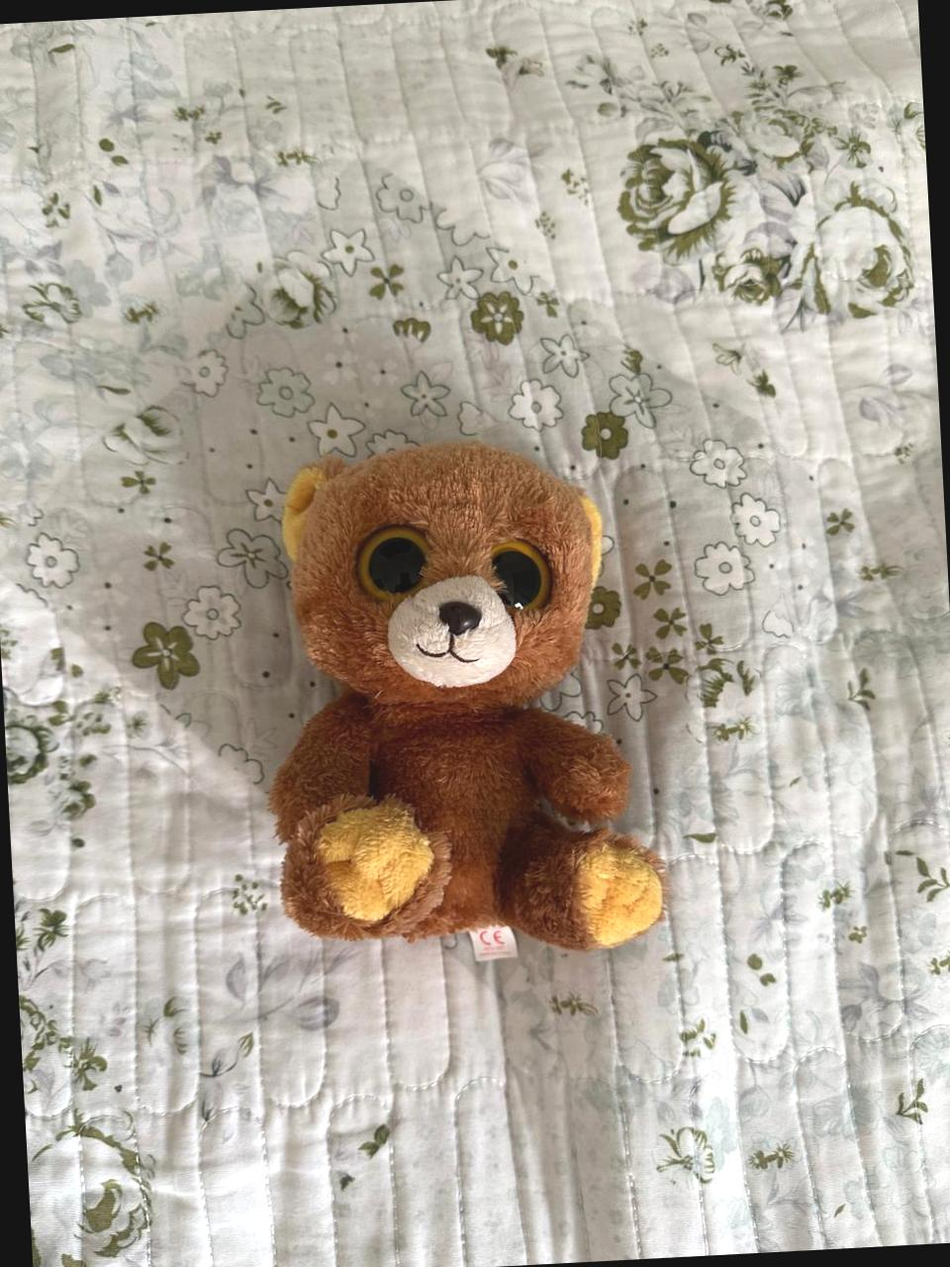peluche_sebastian: (263, 434, 677, 968)
